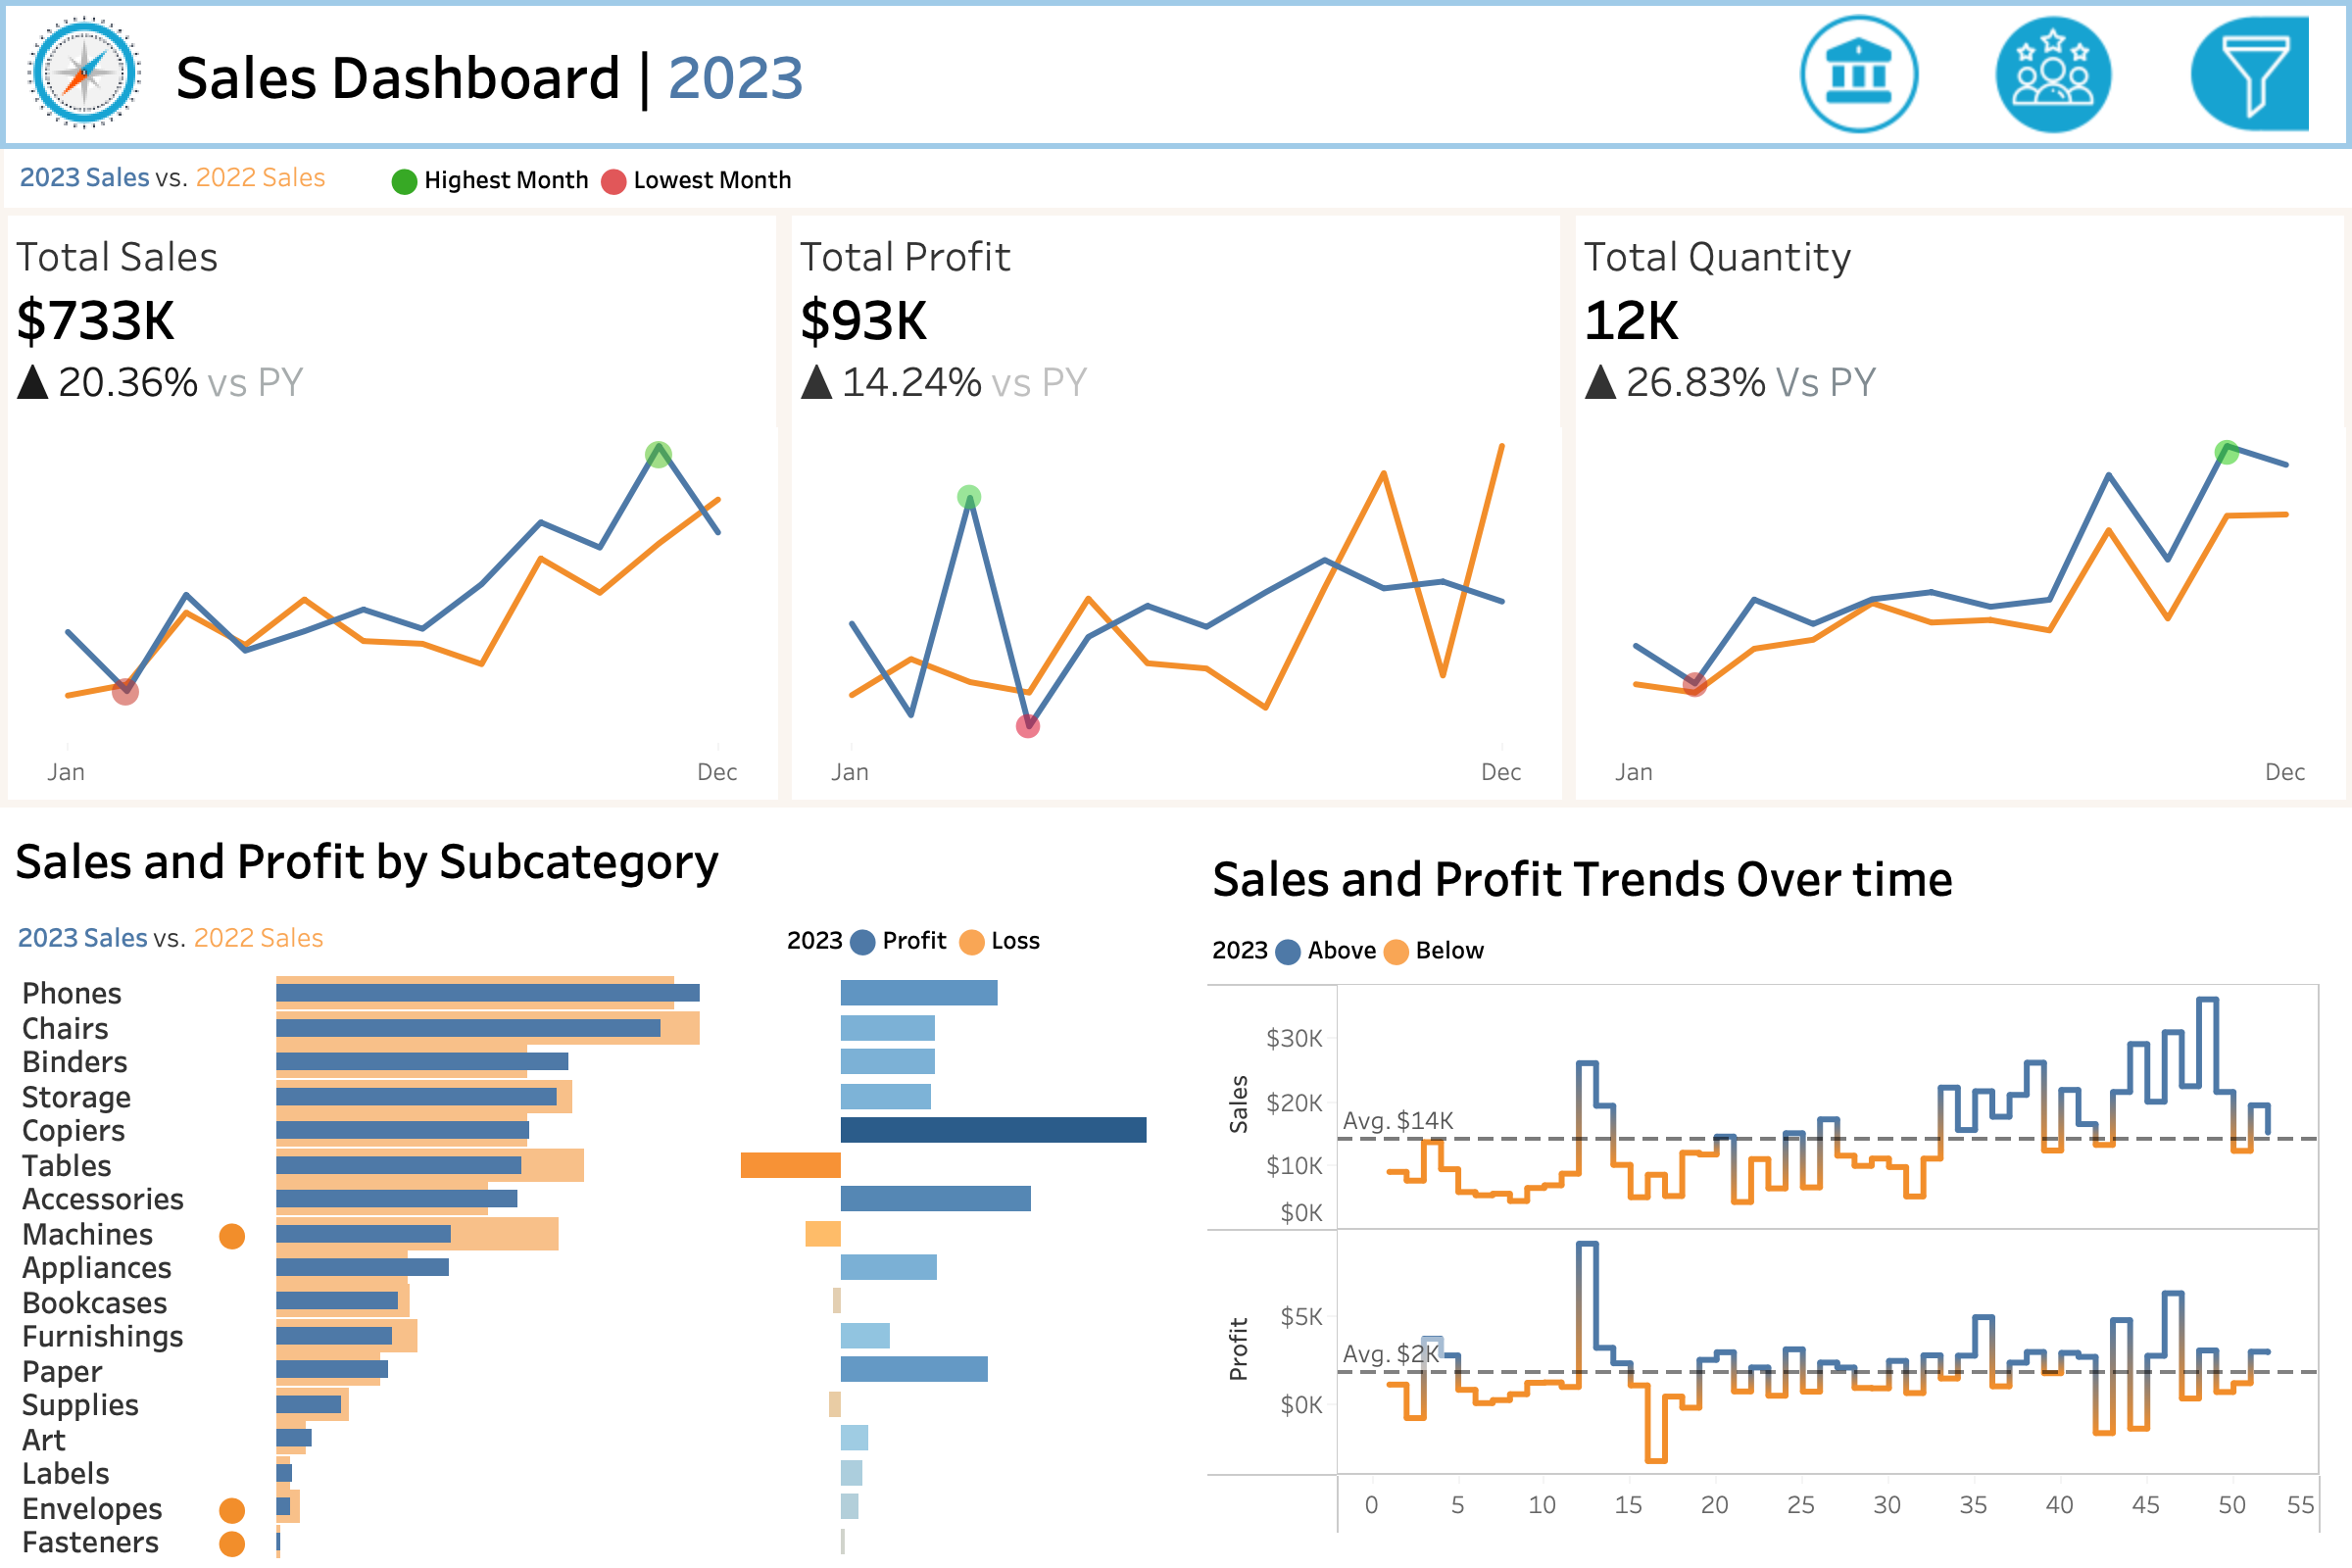

What the dashboard file says about the page in this screenshot:
{"tool":"tableau","page":{"name":"Sales Dashboard","canvas":[1200,800],"ordinal":1},"visuals":[{"type":"image","param":"/Users/khaledaliahmed/Downloads/Sales Dashboard Materials/Dashboard Icons/Icon -","box":[3,3,80,70]},{"type":"text","box":[83,3,817,70]},{"type":"dashboard-object","box":[900,3,99,70]},{"type":"dashboard-object","box":[999,3,99,70]},{"type":"dashboard-object","box":[1098,3,99,70]},{"type":"worksheet","title":"Legend of Sub Category (2)","mark":"Automatic","box":[2,76,188,30]},{"type":"text","box":[190,76,1010,30]},{"type":"text","box":[981,86,208,35]},{"type":"worksheet","title":"KPI Sales","mark":"Automatic","rows":["Calculation_2196067795368878080"],"cols":["Order Date"],"box":[0,106,400,306]},{"type":"worksheet","title":"KPI Profit","mark":"Automatic","rows":["Calculation_2263269946254512135"],"cols":["Order Date"],"box":[400,106,400,306]},{"type":"worksheet","title":"KPI Quantity","mark":"Automatic","rows":["Calculation_2775695148580327428"],"cols":["Order Date"],"box":[800,106,400,306]},{"type":"blank","box":[981,121,208,40]},{"type":"text","box":[981,161,208,31]},{"type":"parameter","param":"[Parameters].[Parameter 1]","box":[981,192,208,52]},{"type":"filter","title":"KPI Sales","param":"[federated.0rpxbg00jiglc9108mldx0hgtpi7].[none:Category:nk]","box":[981,244,208,52]},{"type":"filter","title":"KPI Sales","param":"[federated.0rpxbg00jiglc9108mldx0hgtpi7].[none:Sub-Category:nk]","box":[981,296,208,52]},{"type":"text","box":[981,348,208,31]},{"type":"filter","title":"KPI Sales","param":"[federated.0rpxbg00jiglc9108mldx0hgtpi7].[none:Region:nk]","box":[981,379,208,52]},{"type":"text","box":[1,413,598,51]},{"type":"text","box":[612,424,576,45.7]},{"type":"filter","title":"KPI Sales","param":"[federated.0rpxbg00jiglc9108mldx0hgtpi7].[none:State:nk]","box":[981,431,208,52]},{"type":"worksheet","title":"Legend of Sub Category","mark":"Automatic","box":[1,464,394,30]},{"type":"text","box":[395,464,204,30]},{"type":"text","box":[612,469.7,576,28.7]},{"type":"filter","title":"KPI Sales","param":"[federated.0rpxbg00jiglc9108mldx0hgtpi7].[none:City:nk]","box":[981,483,208,52]},{"type":"worksheet","title":"Sub Bar","mark":"Bar","rows":["Sub-Category","Calculation_2775695148591054855"],"cols":["Current year Sales (copy)_5791769883191869441","Calculation_5791769883190935552","Calculation_2263269946250649602"],"box":[1,494,598,304.9]},{"type":"worksheet","title":"Weekly Trends","mark":"Automatic","rows":["Calculation_5791769883190935552","Calculation_2263269946250649602"],"cols":["Order Date"],"box":[612,498.4,576,289.6]}]}

Visuals, with their boxes in screenshot pixels (x1, y1, x2, y2), scaled from the page's 1200x800 canvas onto the 2352x1568 screenshot:
image: region(6, 6, 163, 143)
text: region(163, 6, 1764, 143)
dashboard-object: region(1764, 6, 1958, 143)
dashboard-object: region(1958, 6, 2152, 143)
dashboard-object: region(2152, 6, 2346, 143)
"Legend of Sub Category (2)" worksheet: region(4, 149, 372, 208)
text: region(372, 149, 2351, 208)
text: region(1923, 169, 2330, 237)
"KPI Sales" worksheet: region(0, 208, 784, 808)
"KPI Profit" worksheet: region(784, 208, 1568, 808)
"KPI Quantity" worksheet: region(1568, 208, 2351, 808)
blank: region(1923, 237, 2330, 316)
text: region(1923, 316, 2330, 376)
parameter: region(1923, 376, 2330, 478)
"KPI Sales" filter: region(1923, 478, 2330, 580)
"KPI Sales" filter: region(1923, 580, 2330, 682)
text: region(1923, 682, 2330, 743)
"KPI Sales" filter: region(1923, 743, 2330, 845)
text: region(2, 809, 1174, 909)
text: region(1200, 831, 2328, 920)
"KPI Sales" filter: region(1923, 845, 2330, 947)
"Legend of Sub Category" worksheet: region(2, 909, 774, 968)
text: region(774, 909, 1174, 968)
text: region(1200, 920, 2328, 977)
"KPI Sales" filter: region(1923, 947, 2330, 1049)
"Sub Bar" worksheet (Bar marks): region(2, 968, 1174, 1566)
"Weekly Trends" worksheet: region(1200, 977, 2328, 1544)
